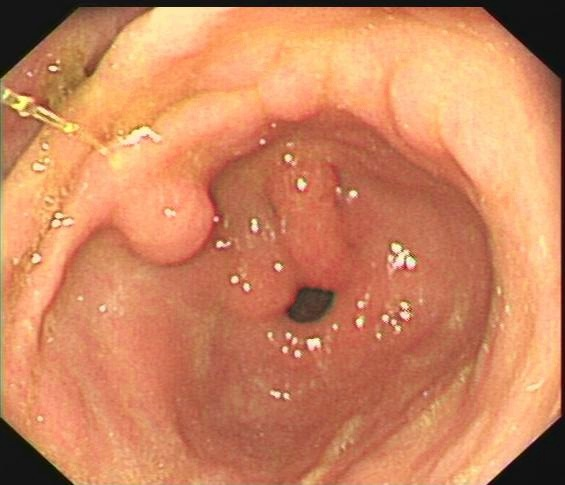Polyp: (106, 186, 232, 270)
